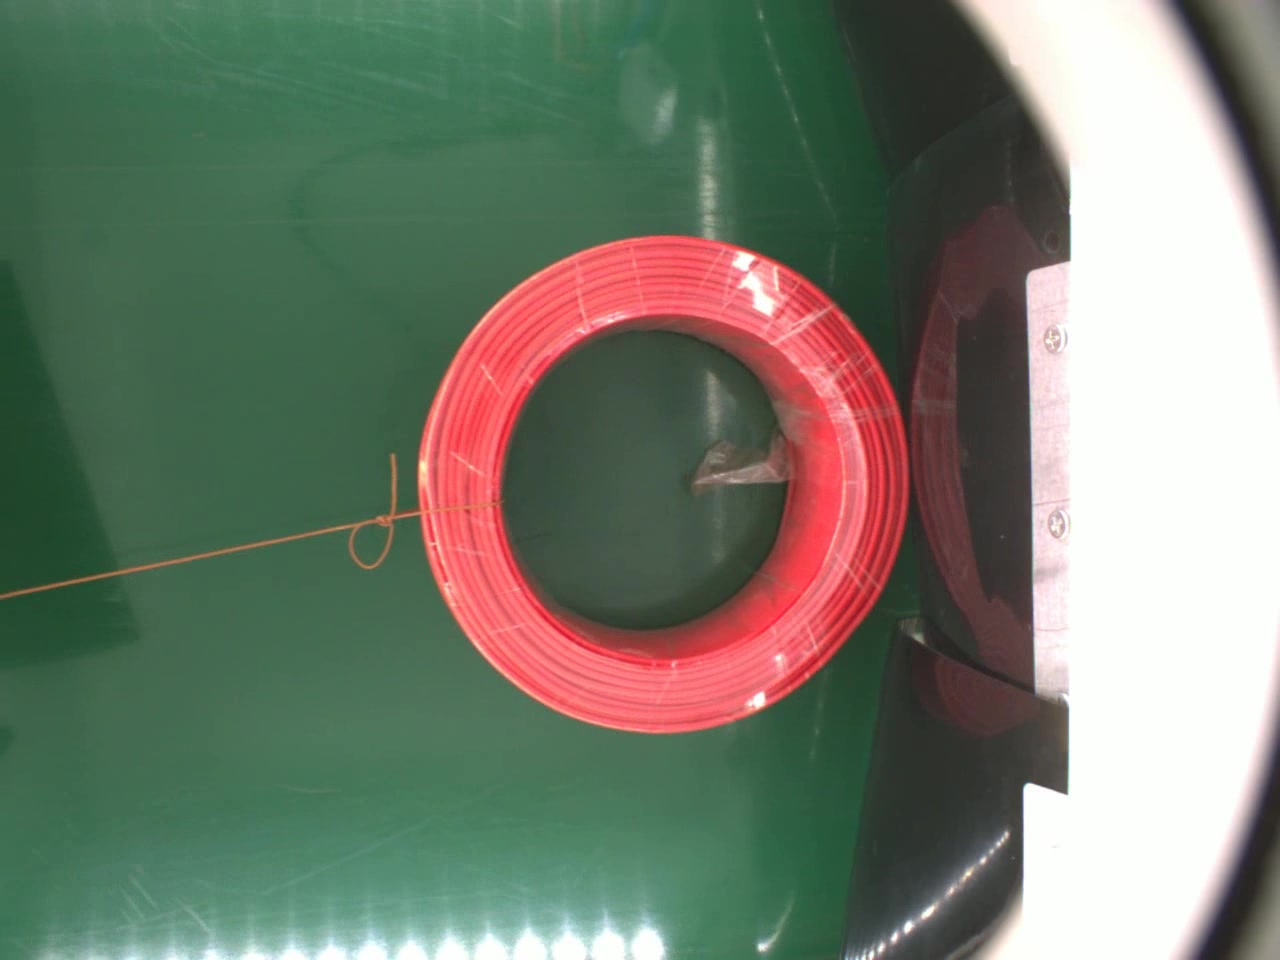red: (412, 225, 911, 739)
